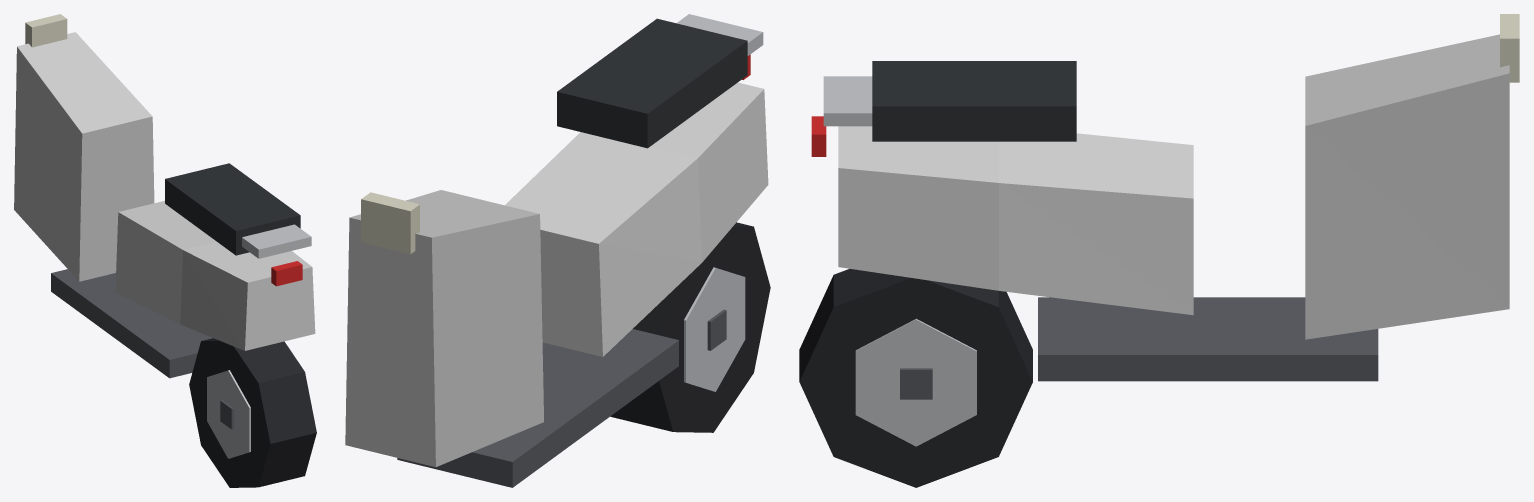
Rendered from scooter.glb.
3 renders of one model, left to right at view 1: azimuth 30°, elevation 25°; view 2: azimuth 150°, elevation 25°; view 3: azimuth 270°, elevation 25°, orthographic. The views are drawn at different scales.
Visible parts, largest first — view 1: Body, Wheel_Front; view 2: Body, Wheel_Front; view 3: Body, Wheel_Front.
Boxes of the visible parts, box(x1,y1,x2,y2) form: Body: box(14, 14, 315, 378); Wheel_Front: box(189, 338, 316, 487); Body: box(345, 14, 768, 487); Wheel_Front: box(610, 222, 770, 432); Body: box(811, 14, 1519, 381); Wheel_Front: box(799, 268, 1032, 487).
Bounding box in the file's own units: 0.3 × 1.01 × 1.48.
